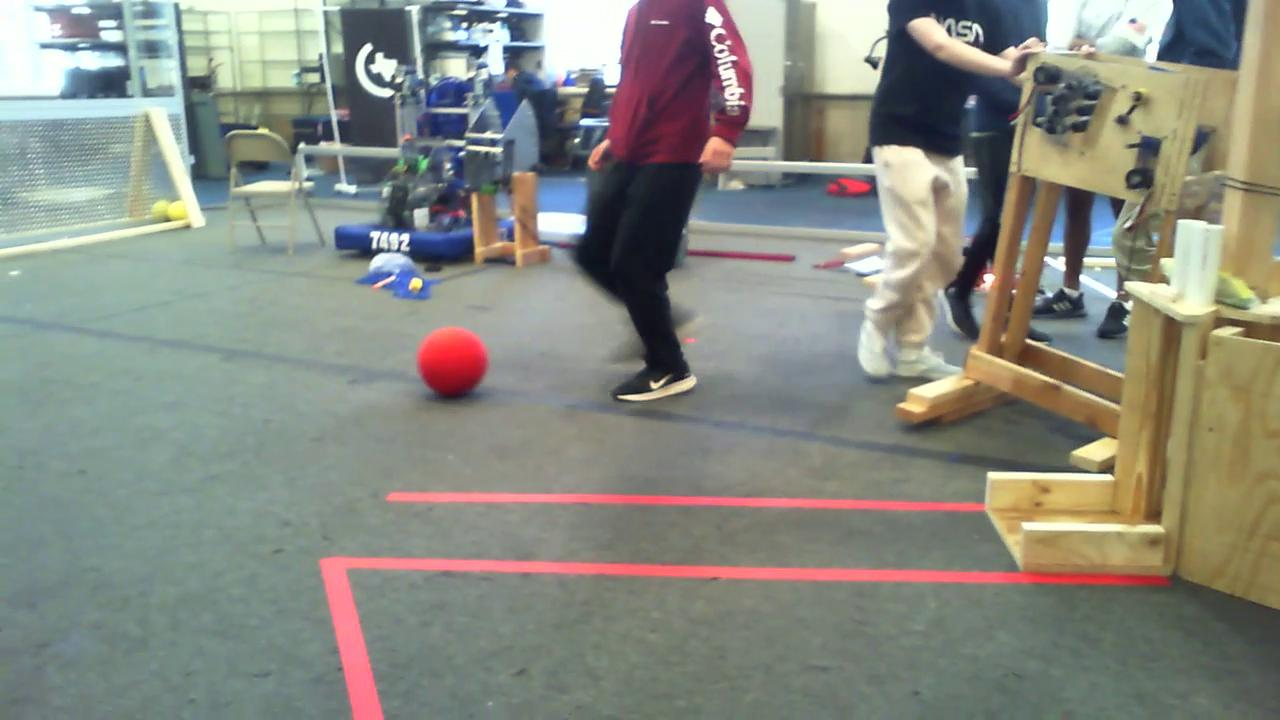Red_Ball: (412, 321, 492, 399)
